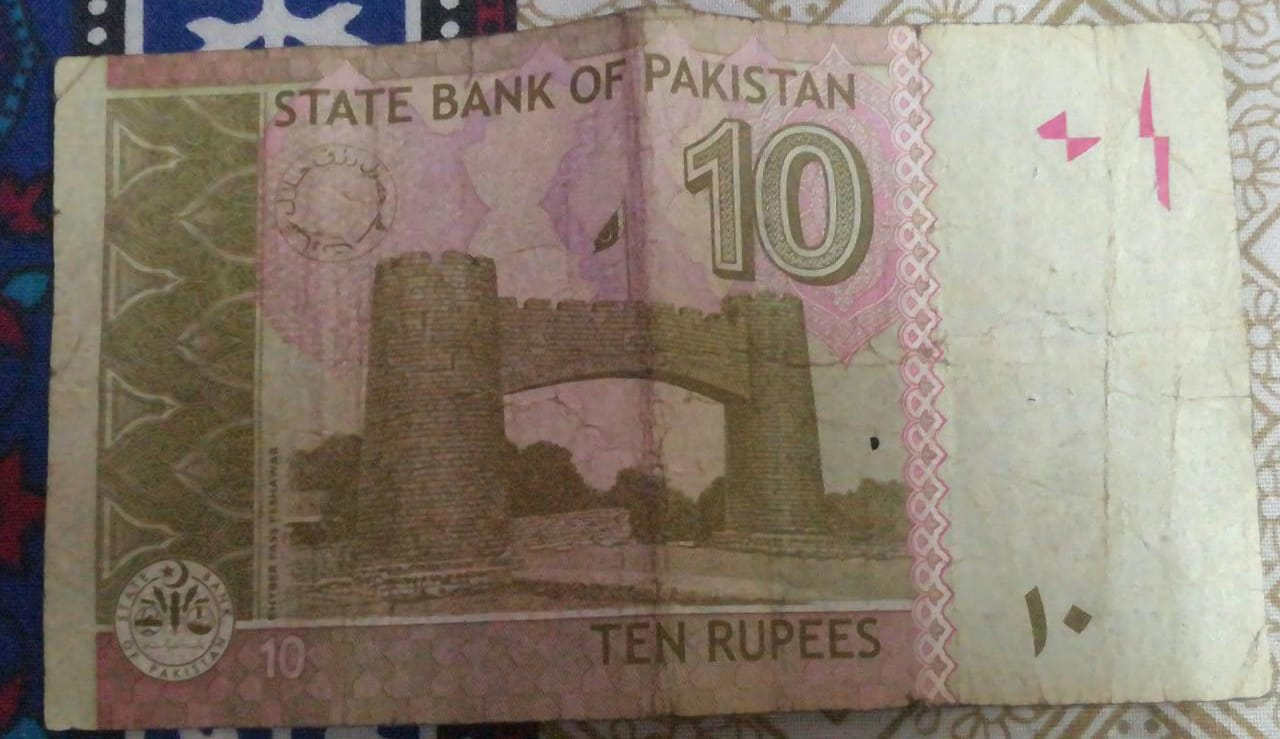10 rupee: (45, 11, 1278, 702)
